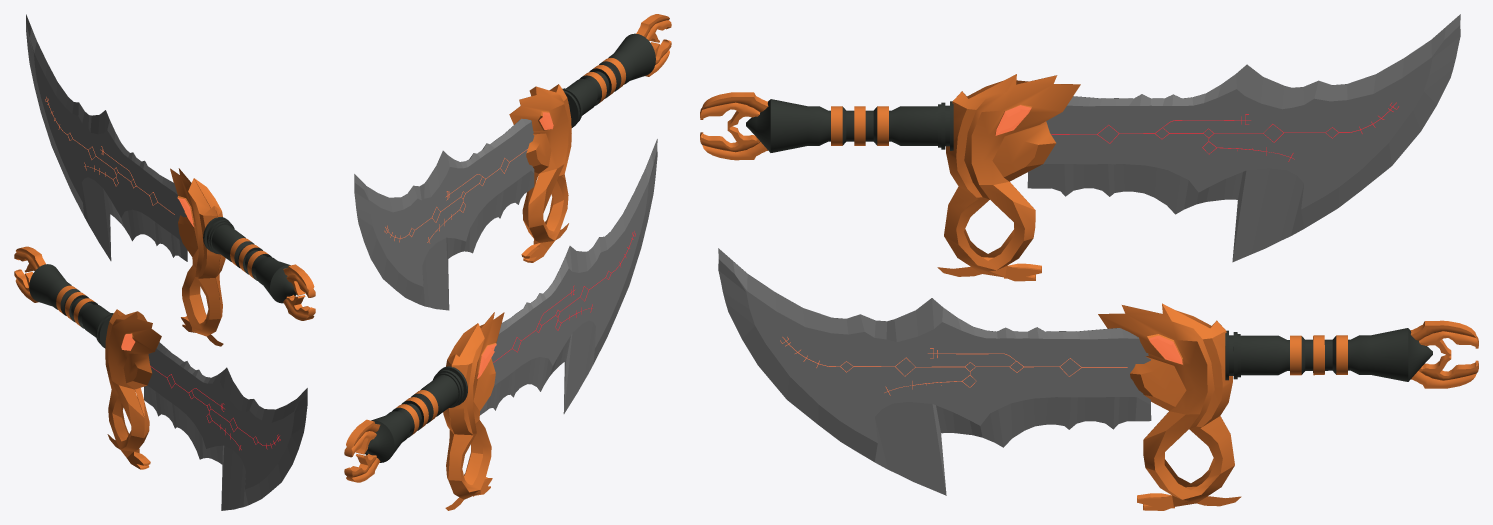
Rendered from blades.glb.
3 renders of one model, left to right at view 1: azimuth 30°, elevation 25°; view 2: azimuth 150°, elevation 25°; view 3: azimuth 270°, elevation 25°, orthographic. The views are drawn at different scales.
Visible parts, largest first — view 1: Blades_1.001, Blades_2, Plane.001, Plane, Handle, Handle.001, Handle_decor, Handle_decor.001, Design, Design2.001; view 2: Blades_2, Blades_1.001, Plane, Plane.001, Handle.001, Handle, Handle_decor.001, Handle_decor, Design, Design2.001; view 3: Blades_2.001, Blades_1, Plane, Plane.001, Handle.001, Handle, Handle_decor, Handle_decor.001.
Boxes of the visible parts, <box> form: Blades_1.001: <box>144,342,307,510</box>; Blades_2: <box>26,14,187,261</box>; Plane.001: <box>105,309,161,469</box>; Plane: <box>170,168,225,346</box>; Handle: <box>203,217,296,303</box>; Handle.001: <box>29,264,113,348</box>; Handle_decor: <box>283,264,315,320</box>; Handle_decor.001: <box>14,246,45,302</box>; Design: <box>45,97,174,214</box>; Design2.001: <box>150,366,280,450</box>; Blades_2: <box>354,118,534,310</box>; Blades_1.001: <box>480,139,657,415</box>; Plane: <box>509,84,571,262</box>; Plane.001: <box>443,312,504,510</box>; Handle.001: <box>365,366,467,462</box>; Handle: <box>562,33,655,127</box>; Handle_decor.001: <box>344,419,380,482</box>; Handle_decor: <box>636,14,671,76</box>; Design: <box>384,148,528,242</box>; Design2.001: <box>493,231,635,362</box>; Blades_2.001: <box>718,248,1151,495</box>; Blades_1: <box>1027,14,1460,262</box>; Plane: <box>937,74,1080,281</box>; Plane.001: <box>1098,303,1241,510</box>; Handle.001: <box>1225,328,1432,381</box>; Handle: <box>746,99,953,152</box>; Handle_decor: <box>700,92,768,160</box>; Handle_decor.001: <box>1410,320,1478,388</box>.
Size of the model in its own units: 0.3281 by 3.36 by 4.79.
